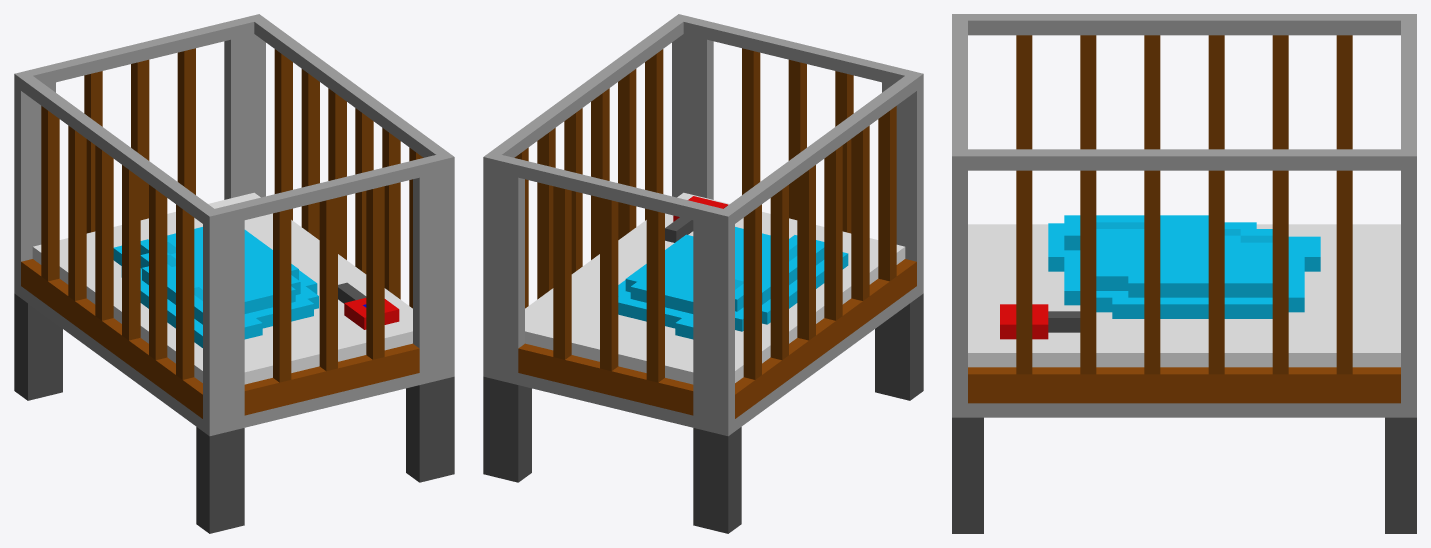
File: Crib.obj
3 views of the same model, side by side, from view 1: azimuth 30°, elevation 25°; view 2: azimuth 150°, elevation 25°; view 3: azimuth 270°, elevation 25° (orthographic). The views are drawn at different scales.
Bounding box in the file's own units: 2.1 × 2.6 × 2.9.
1 material, 1 textured.
